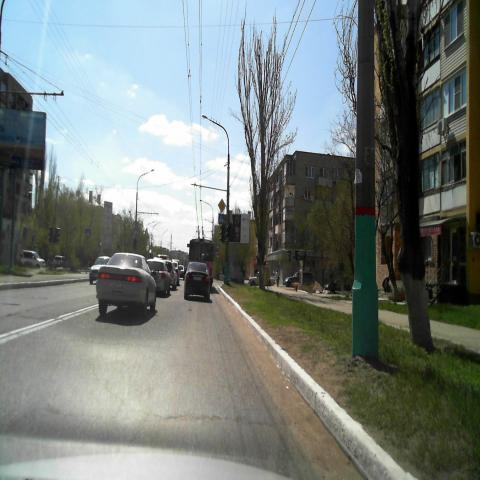2_1: (218, 198, 226, 212)
3_4_1: (216, 250, 220, 258)
5_19_1: (218, 214, 224, 224), (85, 227, 90, 237), (216, 242, 220, 250), (134, 227, 138, 234)
